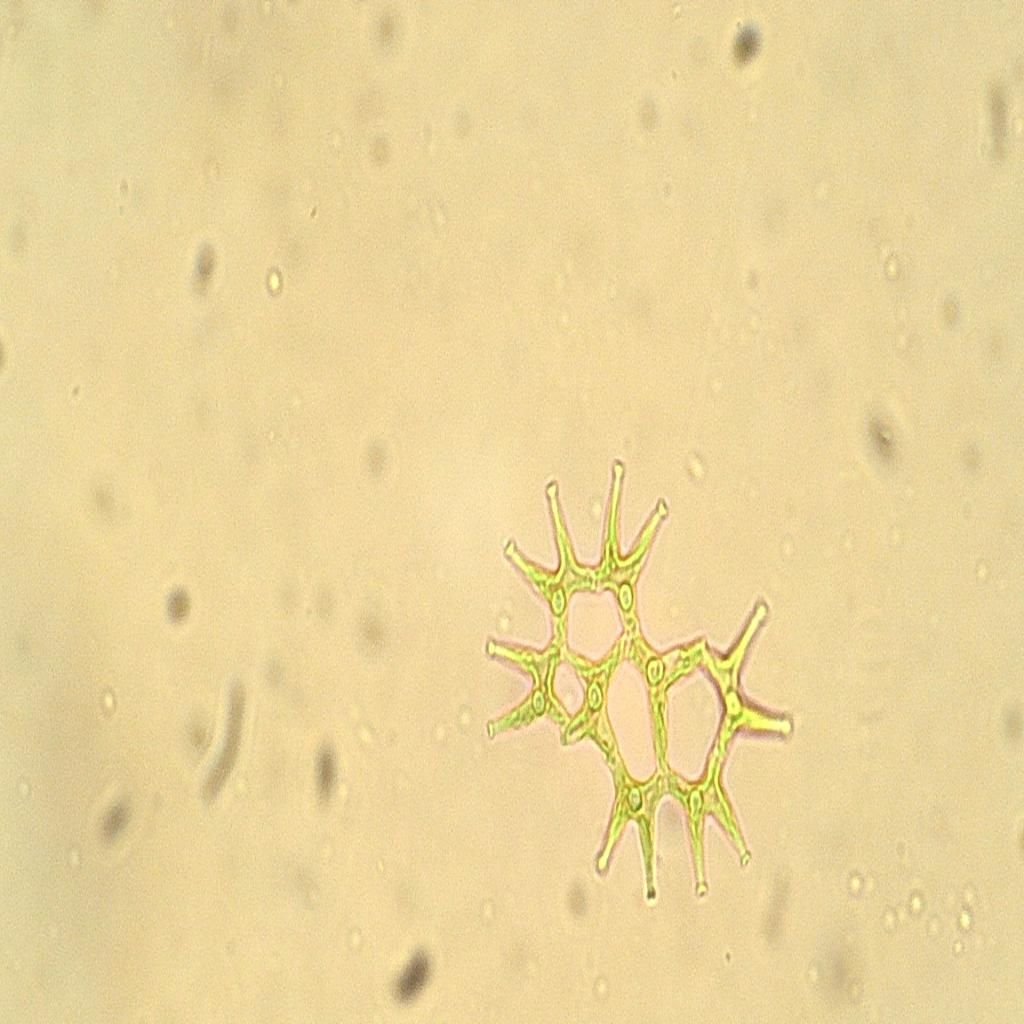Pediastrum_CFI: (477, 440, 805, 929)
